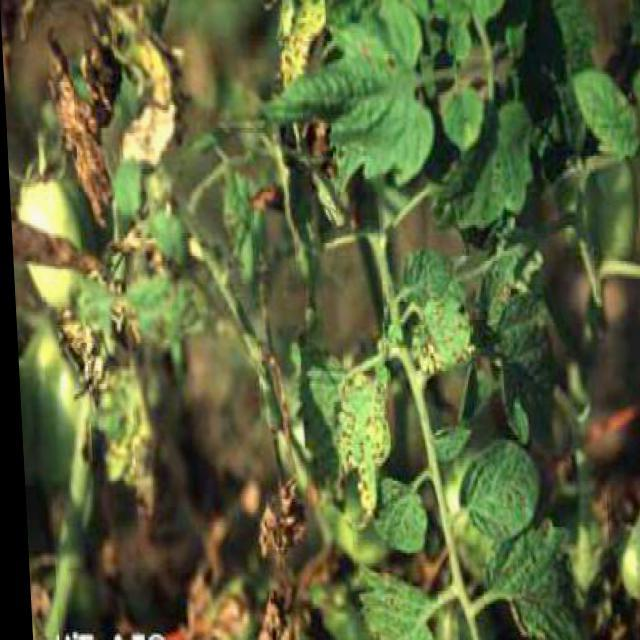Tomato Septoria spot leaf: (379, 233, 480, 386), (455, 248, 562, 380), (322, 363, 394, 522), (442, 440, 542, 545), (354, 476, 430, 563), (346, 570, 439, 638)
